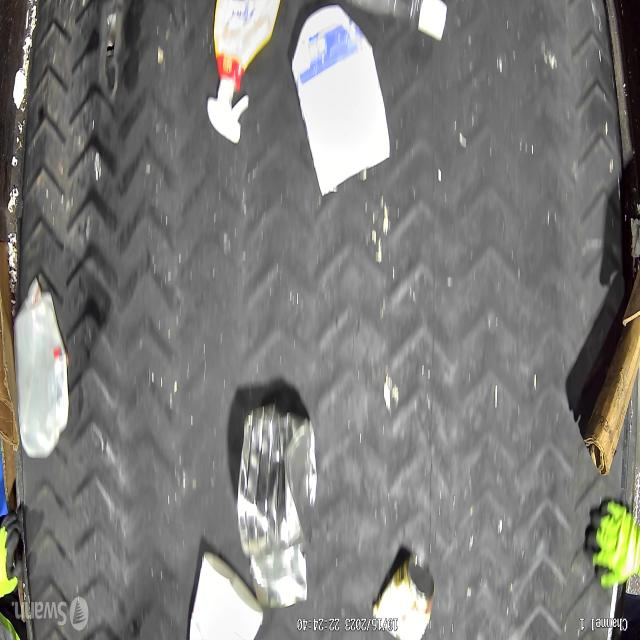can: (238, 404, 318, 557), (373, 554, 435, 640)
milk_jug: (13, 277, 69, 459)
